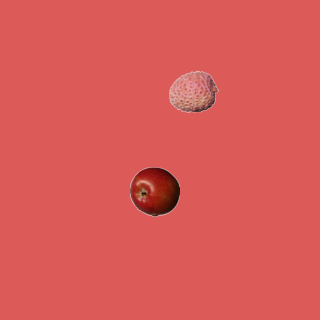Apple Braeburn: (129, 166, 179, 216)
Lychee: (168, 66, 218, 116)
